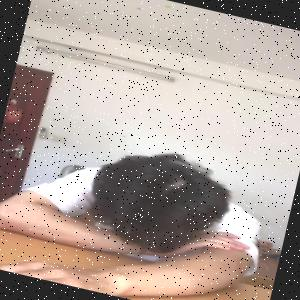sleep: (1, 126, 275, 285)
